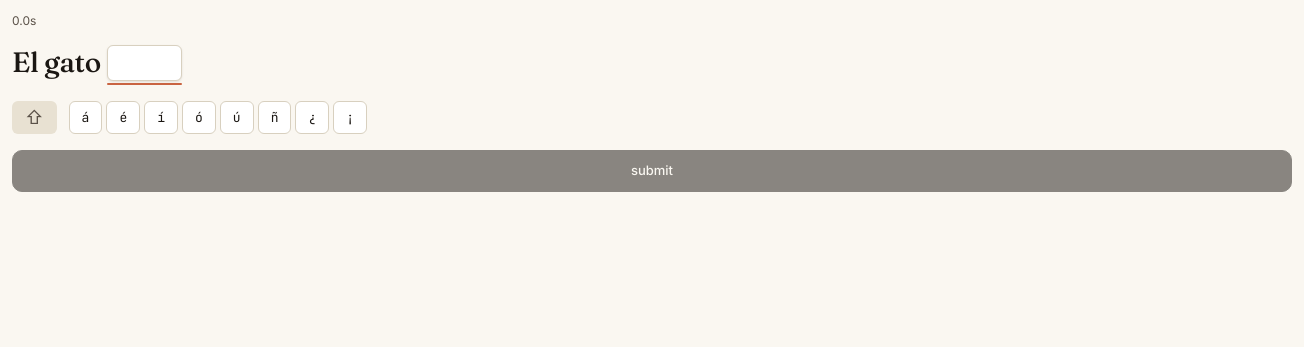
Test case: FluencyRunner › submits an answer, shows the verdict, then advances
The image size is (1304, 347).
Type "está" into the field.
click(144, 63); type("está")  # box [107, 45, 182, 81]
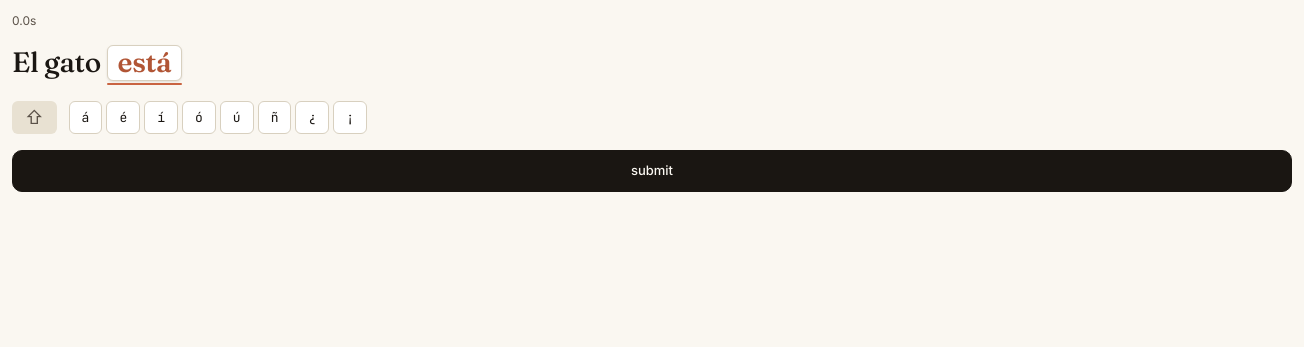
Click the button "submit".
click(652, 171)  # box [12, 150, 1292, 192]
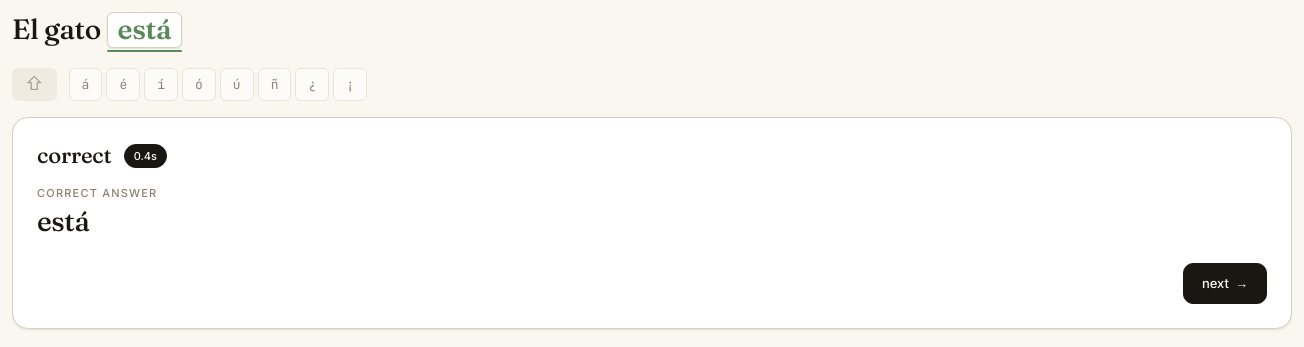
Check: the message "correct 0.4s correct answer está next →" is shown, box [12, 117, 1292, 329]
Click the button "next →".
click(1225, 283)  # box [1183, 263, 1267, 304]
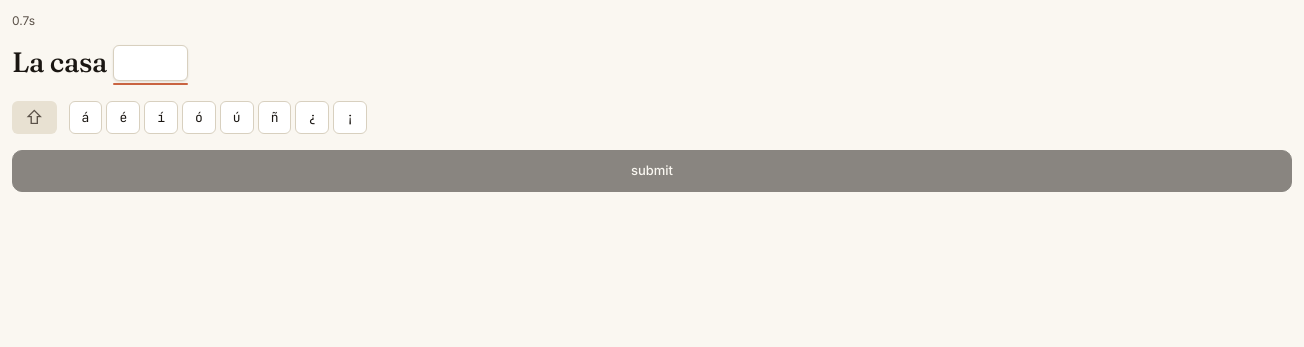
Check: the text "La casa" is shown, box [12, 45, 188, 85]
